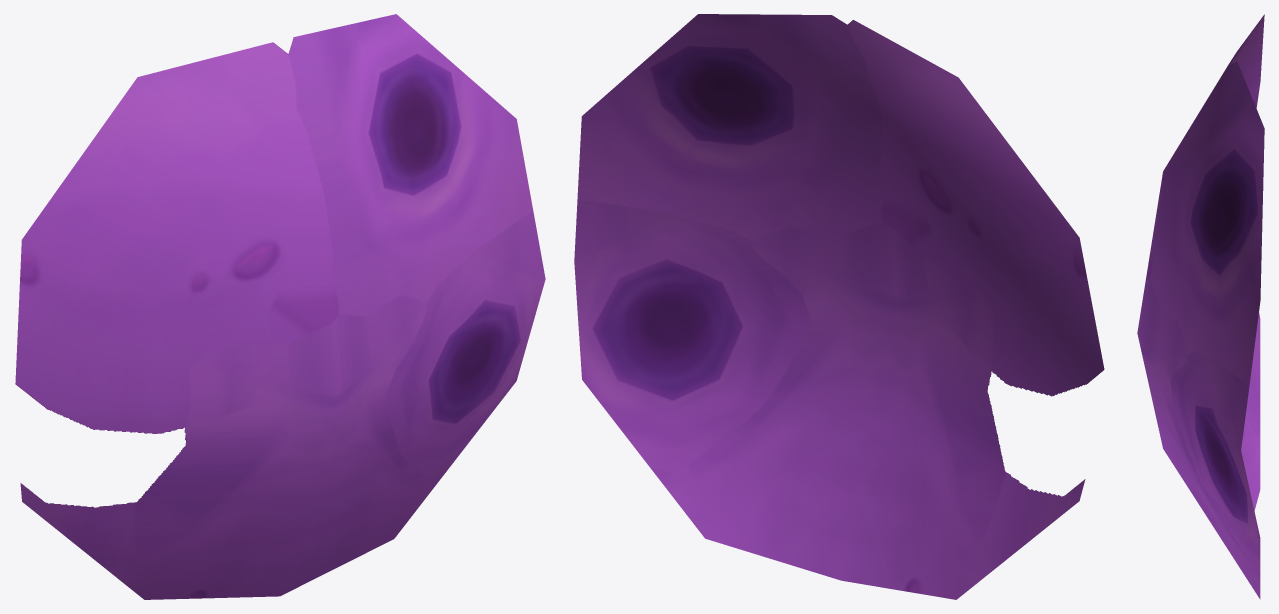
Rendered from Smoke_Face.fbx.
The picture shows the model from 3 angles, left to right: view 1: azimuth 30°, elevation 25°; view 2: azimuth 150°, elevation 25°; view 3: azimuth 270°, elevation 25°; orthographic projection. The views are drawn at different scales.
Parts seen in each view (by area): view 1: Smoke1; view 2: Smoke1; view 3: Smoke1.
Part boxes in pixels (box(x1,y1,x2,y2)): Smoke1: box(15, 14, 545, 599); Smoke1: box(574, 14, 1104, 599); Smoke1: box(1137, 14, 1264, 599).
Size of the model in its own units: 85.21 by 85.77 by 19.51.
